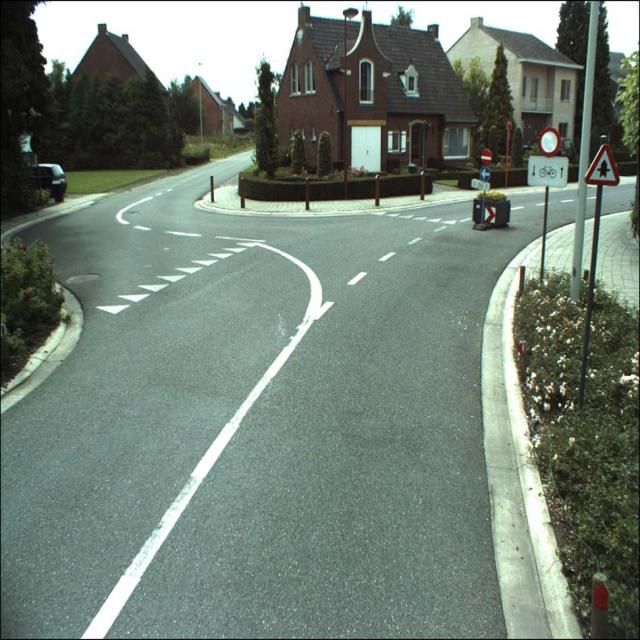girisyok: (481, 150, 492, 167)
sol: (480, 167, 490, 181)
